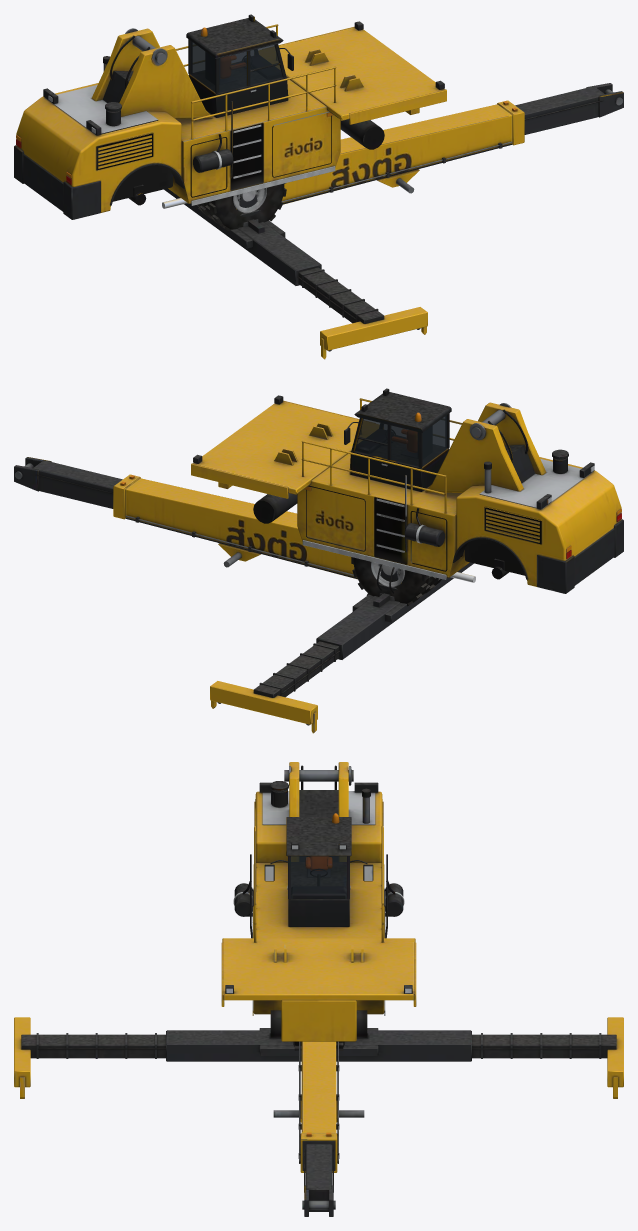
The model's file is stacker.glb.
3 renders of one model, top to bottom at view 1: azimuth 30°, elevation 25°; view 2: azimuth 150°, elevation 25°; view 3: azimuth 270°, elevation 25°, orthographic. The views are drawn at different scales.
Visible parts, largest first — view 1: stacker_body, stacker_boom, stacker_spreader, stacker_inner, stacker_glass, stacker_wheel_front; view 2: stacker_body, stacker_boom, stacker_spreader, stacker_inner, stacker_glass, stacker_wheel_front; view 3: stacker_body, stacker_spreader, stacker_boom, stacker_glass, stacker_inner.
Part boxes in pixels (x1=…): stacker_body: x1=14, y1=14, x2=446, y2=219; stacker_boom: x1=236, y1=100, x2=524, y2=209; stacker_spreader: x1=164, y1=188, x2=427, y2=359; stacker_inner: x1=515, y1=83, x2=623, y2=134; stacker_glass: x1=191, y1=41, x2=282, y2=92; stacker_wheel_front: x1=197, y1=183, x2=286, y2=231; stacker_body: x1=191, y1=388, x2=623, y2=593; stacker_boom: x1=113, y1=474, x2=401, y2=583; stacker_spreader: x1=210, y1=562, x2=473, y2=733; stacker_inner: x1=14, y1=457, x2=122, y2=508; stacker_glass: x1=355, y1=415, x2=446, y2=466; stacker_wheel_front: x1=351, y1=557, x2=441, y2=606; stacker_body: x1=221, y1=762, x2=416, y2=1041; stacker_spreader: x1=14, y1=1017, x2=623, y2=1098; stacker_boom: x1=273, y1=1041, x2=364, y2=1172; stacker_glass: x1=291, y1=856, x2=346, y2=898; stacker_inner: x1=302, y1=1144, x2=335, y2=1216.
Size of the model in its own units: 14.8 by 5.69 by 12.35.
Materials: 2 (1 with a texture image).
